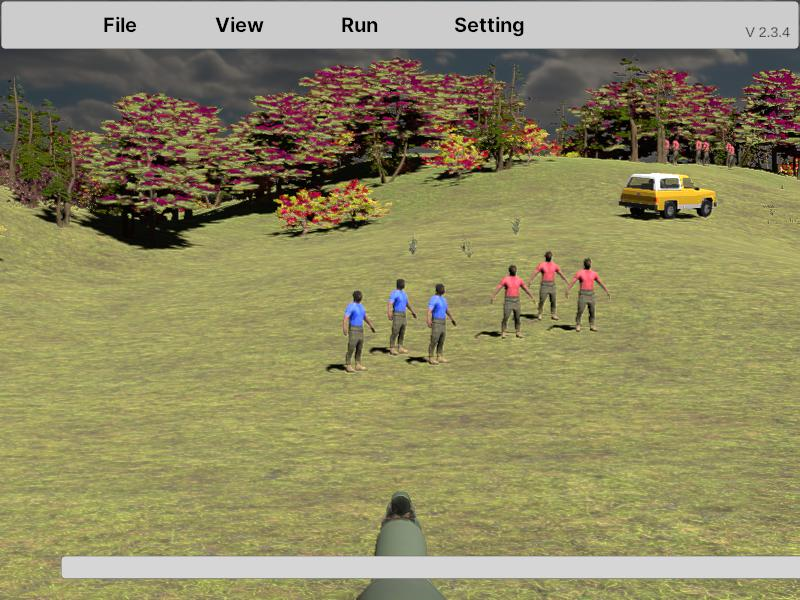Human: (567, 257, 610, 332), (492, 264, 535, 338), (529, 251, 570, 321), (342, 290, 375, 372), (427, 283, 456, 364), (388, 278, 417, 356)
car: (619, 172, 716, 220)
